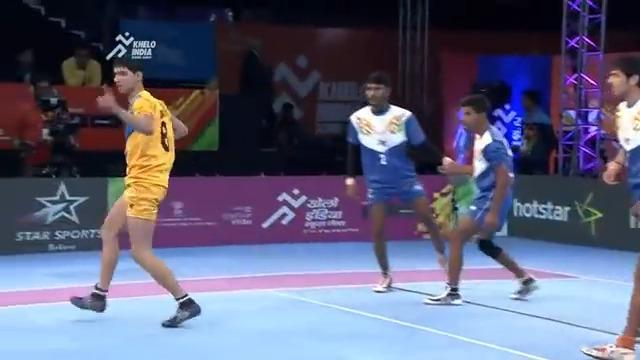Player: (343, 70, 469, 293), (422, 92, 539, 305), (580, 54, 639, 359)
Raider: (69, 57, 206, 327)
referee: (14, 91, 81, 176)
